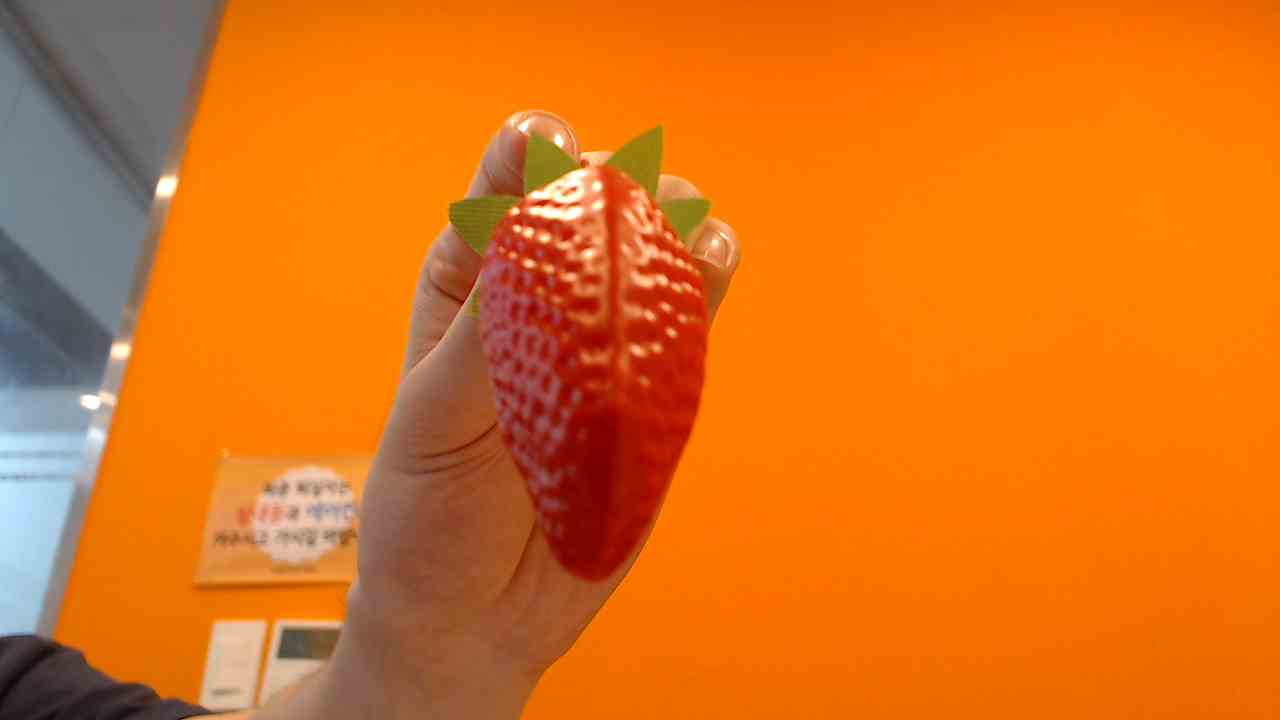strawberry: (475, 154, 708, 577)
